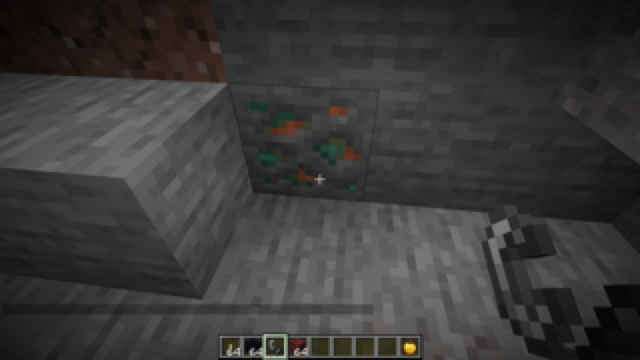copper: (226, 80, 382, 200)
